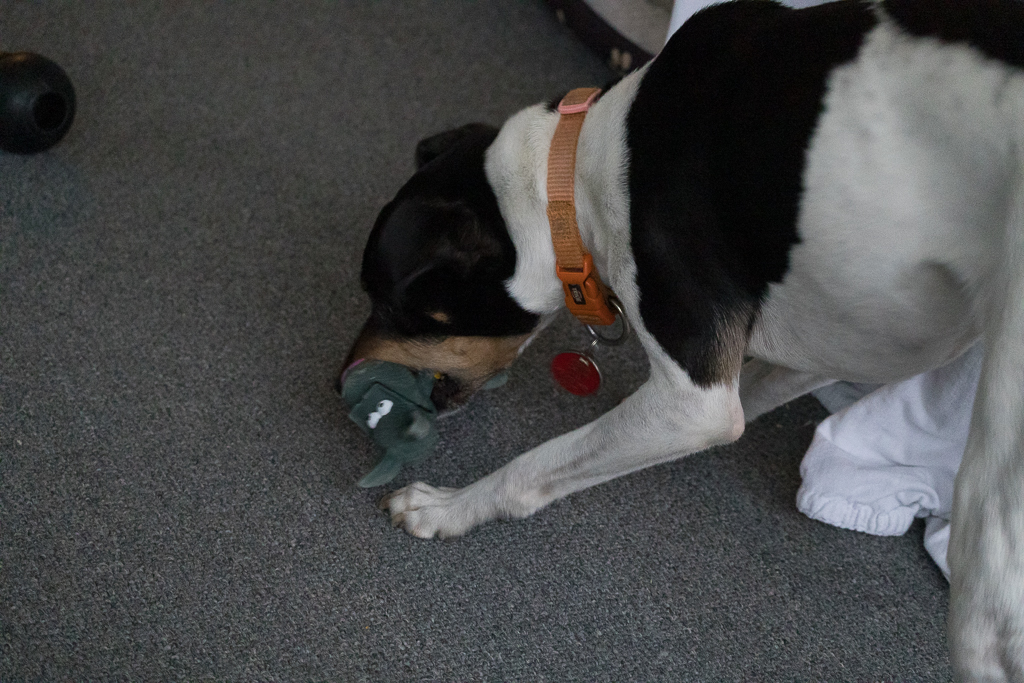Dog: (319, 0, 1024, 683)
Humanoid: (329, 332, 528, 509)
